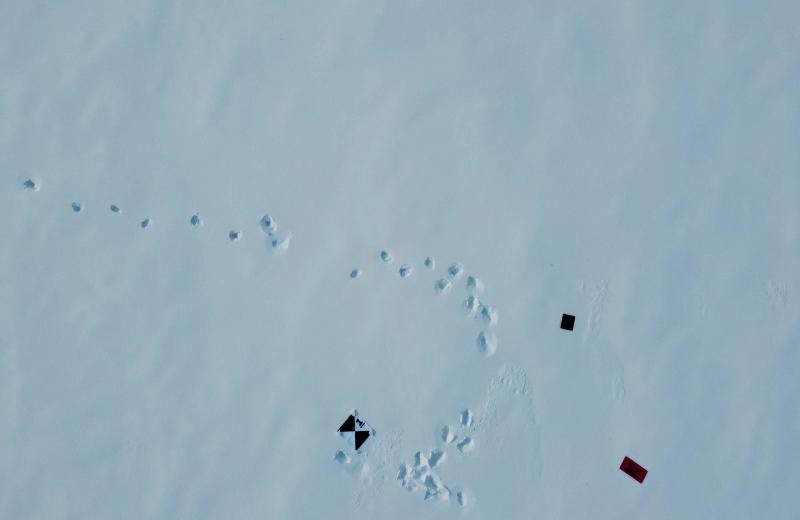Rectangle: (617, 453, 651, 488)
Square: (559, 311, 582, 336)
